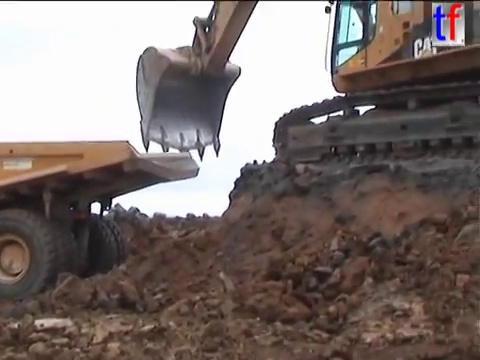excavator: (130, 1, 480, 172)
truck: (1, 137, 204, 306)
